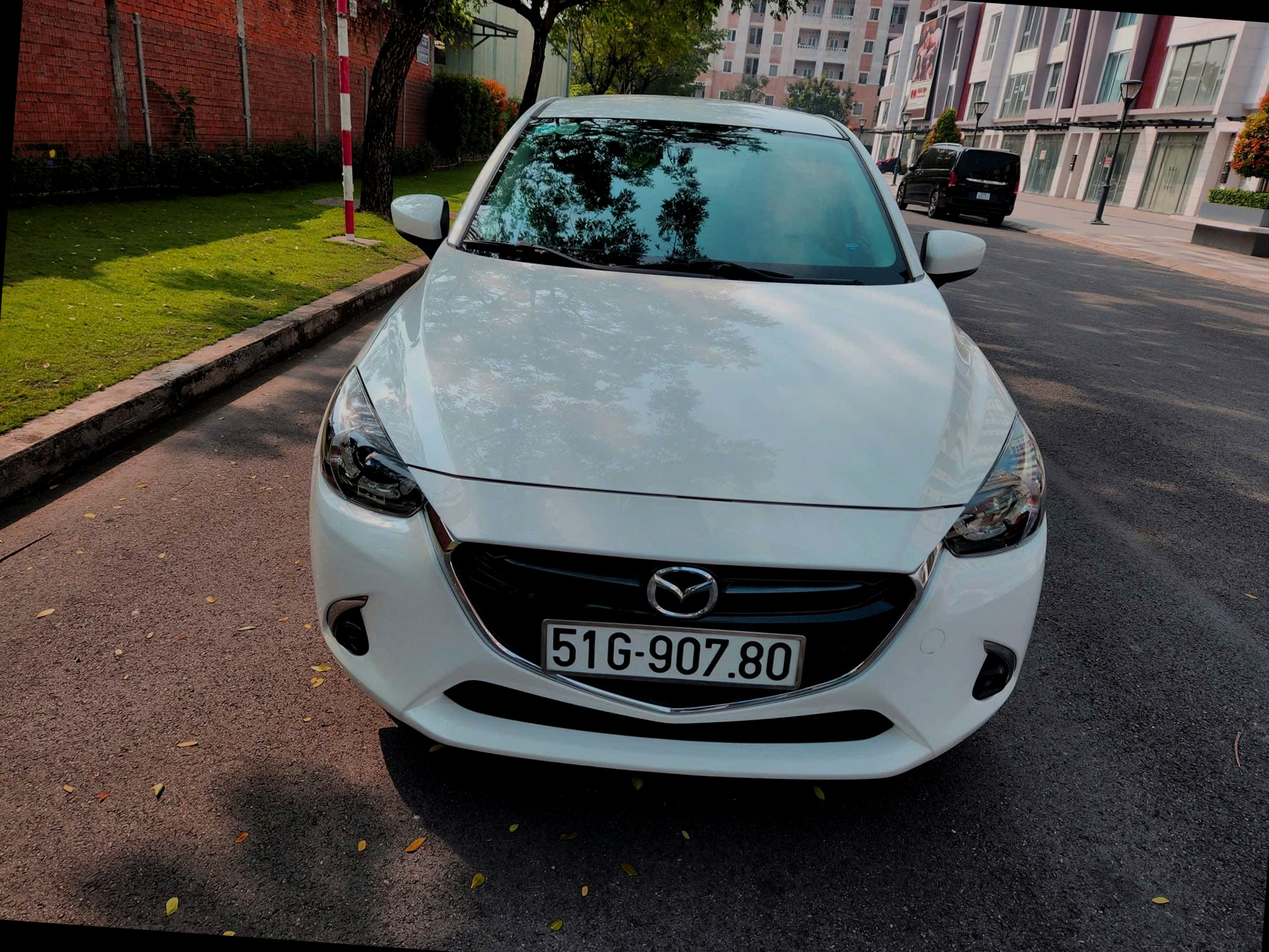Bien-so: (528, 620, 770, 694)
